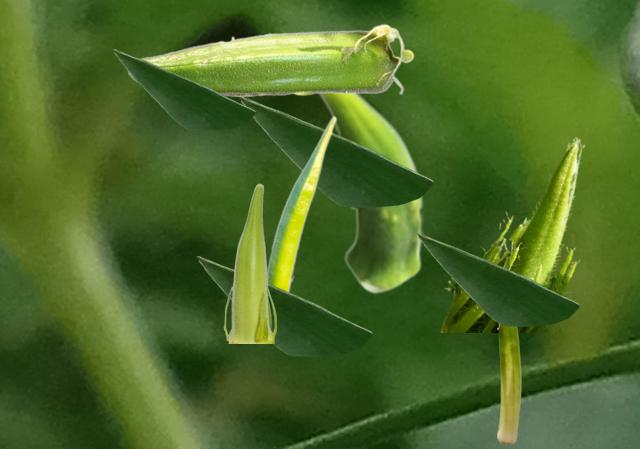okra: (438, 136, 584, 331), (318, 94, 424, 293), (127, 23, 413, 96), (268, 115, 336, 291), (223, 183, 275, 342), (497, 256, 520, 442)
